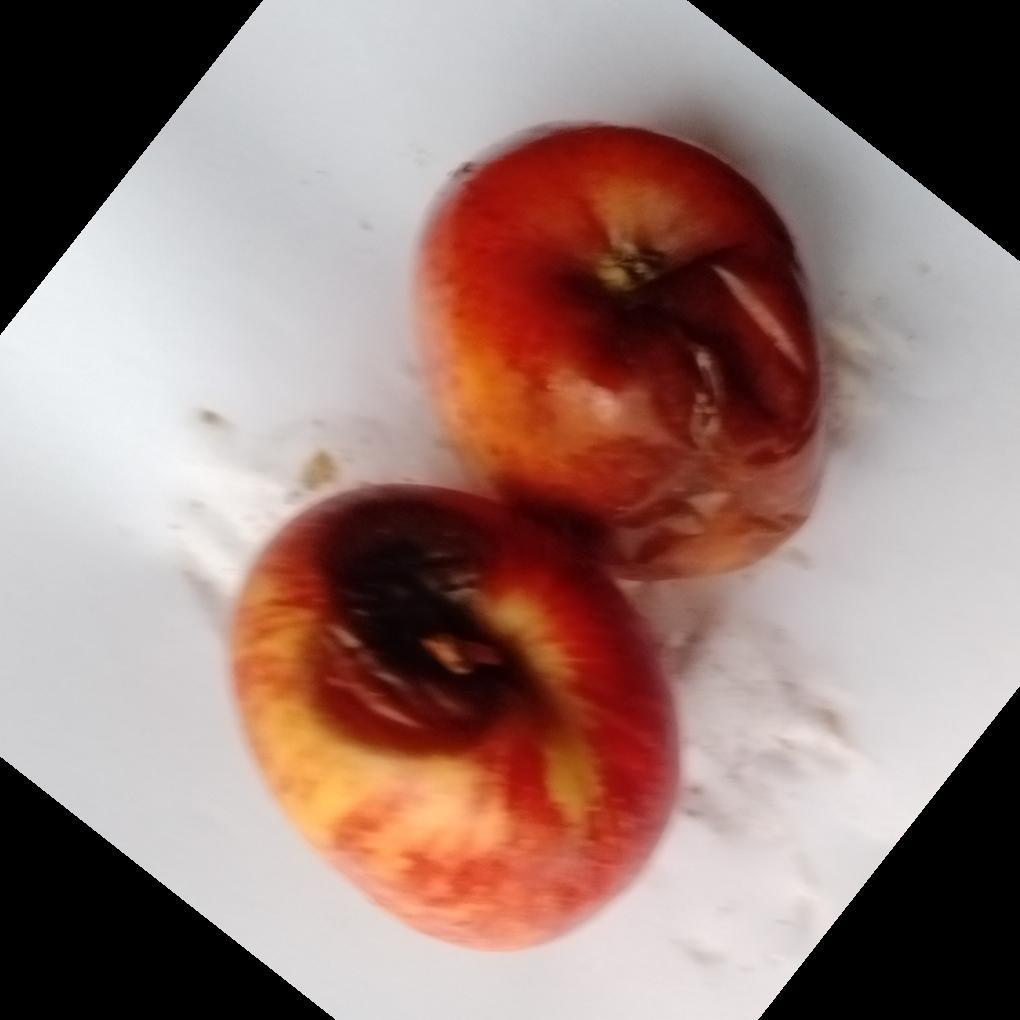FreshOrange: (229, 127, 823, 955)
